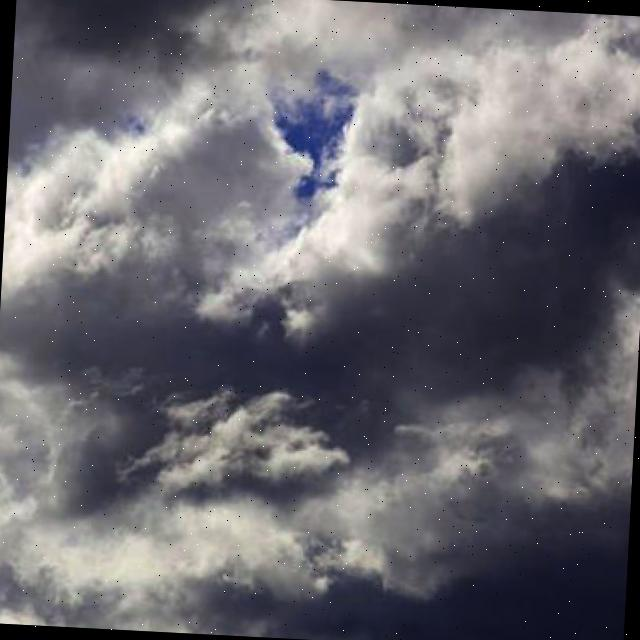As: (1, 57, 640, 640)
